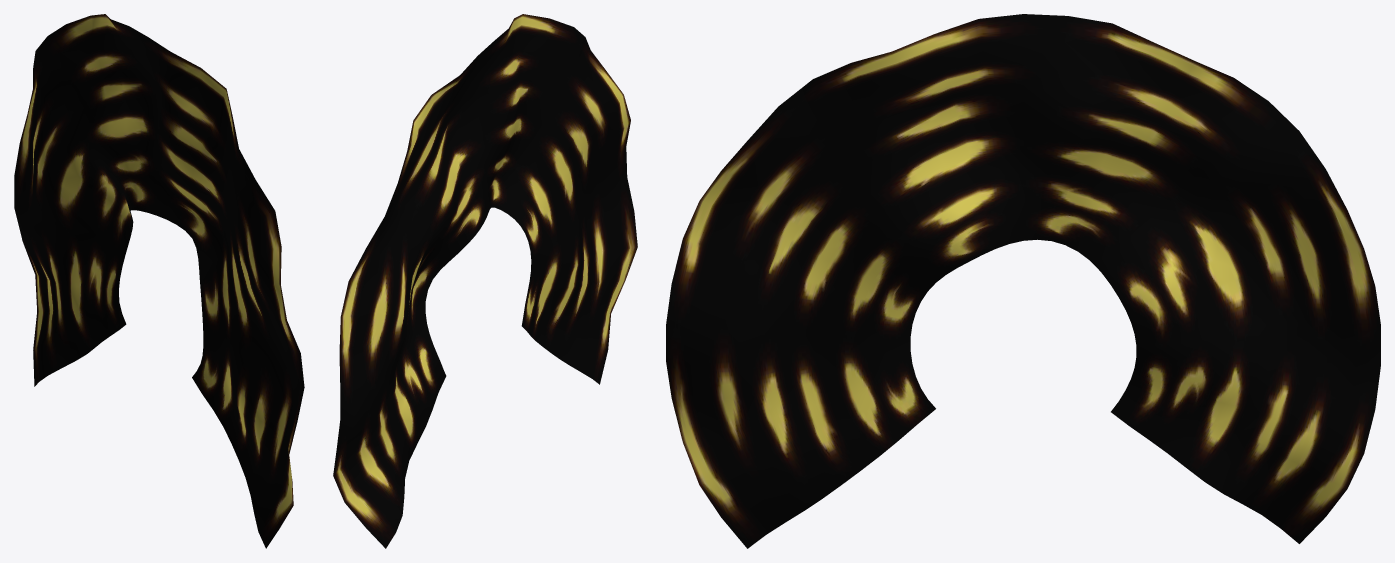
Rendered from 0309_hhhhhhh.glb.
3 renders of one model, left to right at view 1: azimuth 30°, elevation 25°; view 2: azimuth 150°, elevation 25°; view 3: azimuth 270°, elevation 25°, orthographic. The views are drawn at different scales.
Bounding box in the file's own units: 0.163 × 1.8 × 2.2.
1 material, 1 textured.
